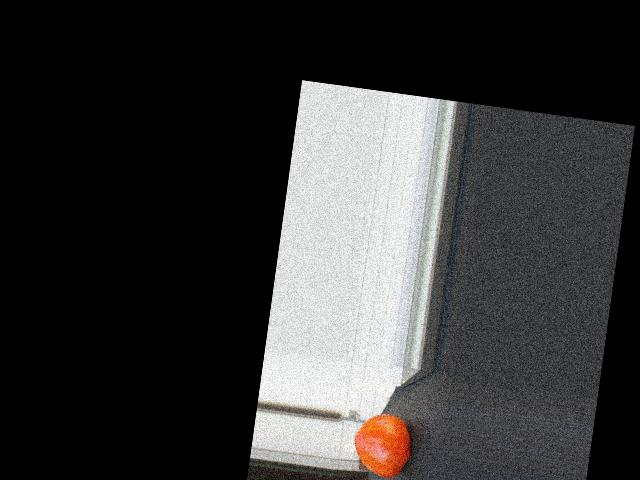tomato: (349, 410, 414, 480)
